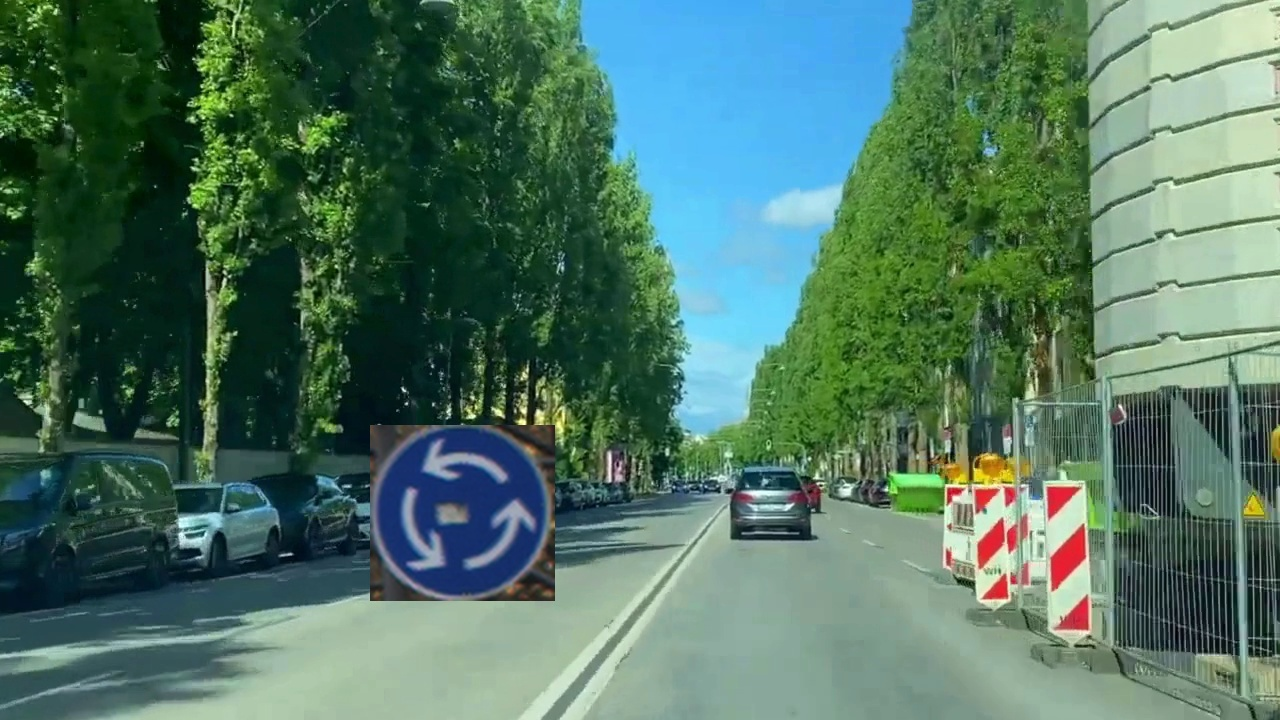Roundabout: (370, 425, 555, 601)
